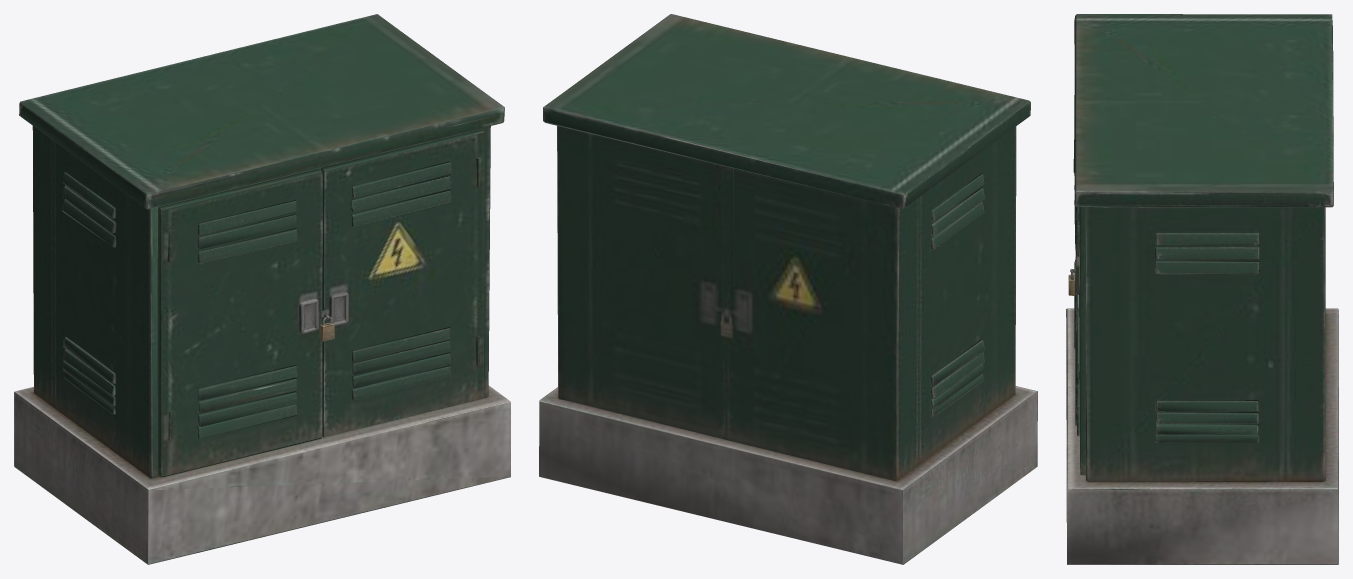
File: elecbox.glb
3 renders of one model, left to right at view 1: azimuth 30°, elevation 25°; view 2: azimuth 150°, elevation 25°; view 3: azimuth 270°, elevation 25°, orthographic.
Bounding box in the file's own units: 1 × 0.9707 × 0.6426.
1 material, 1 textured.
